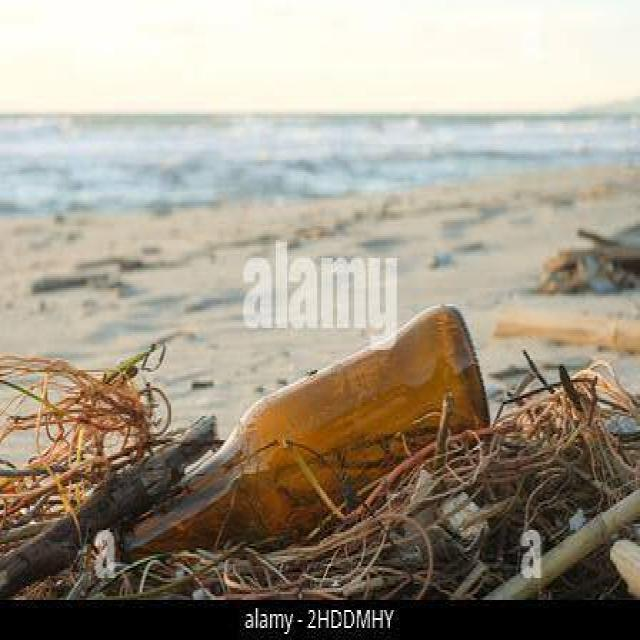glass: (99, 296, 482, 552)
